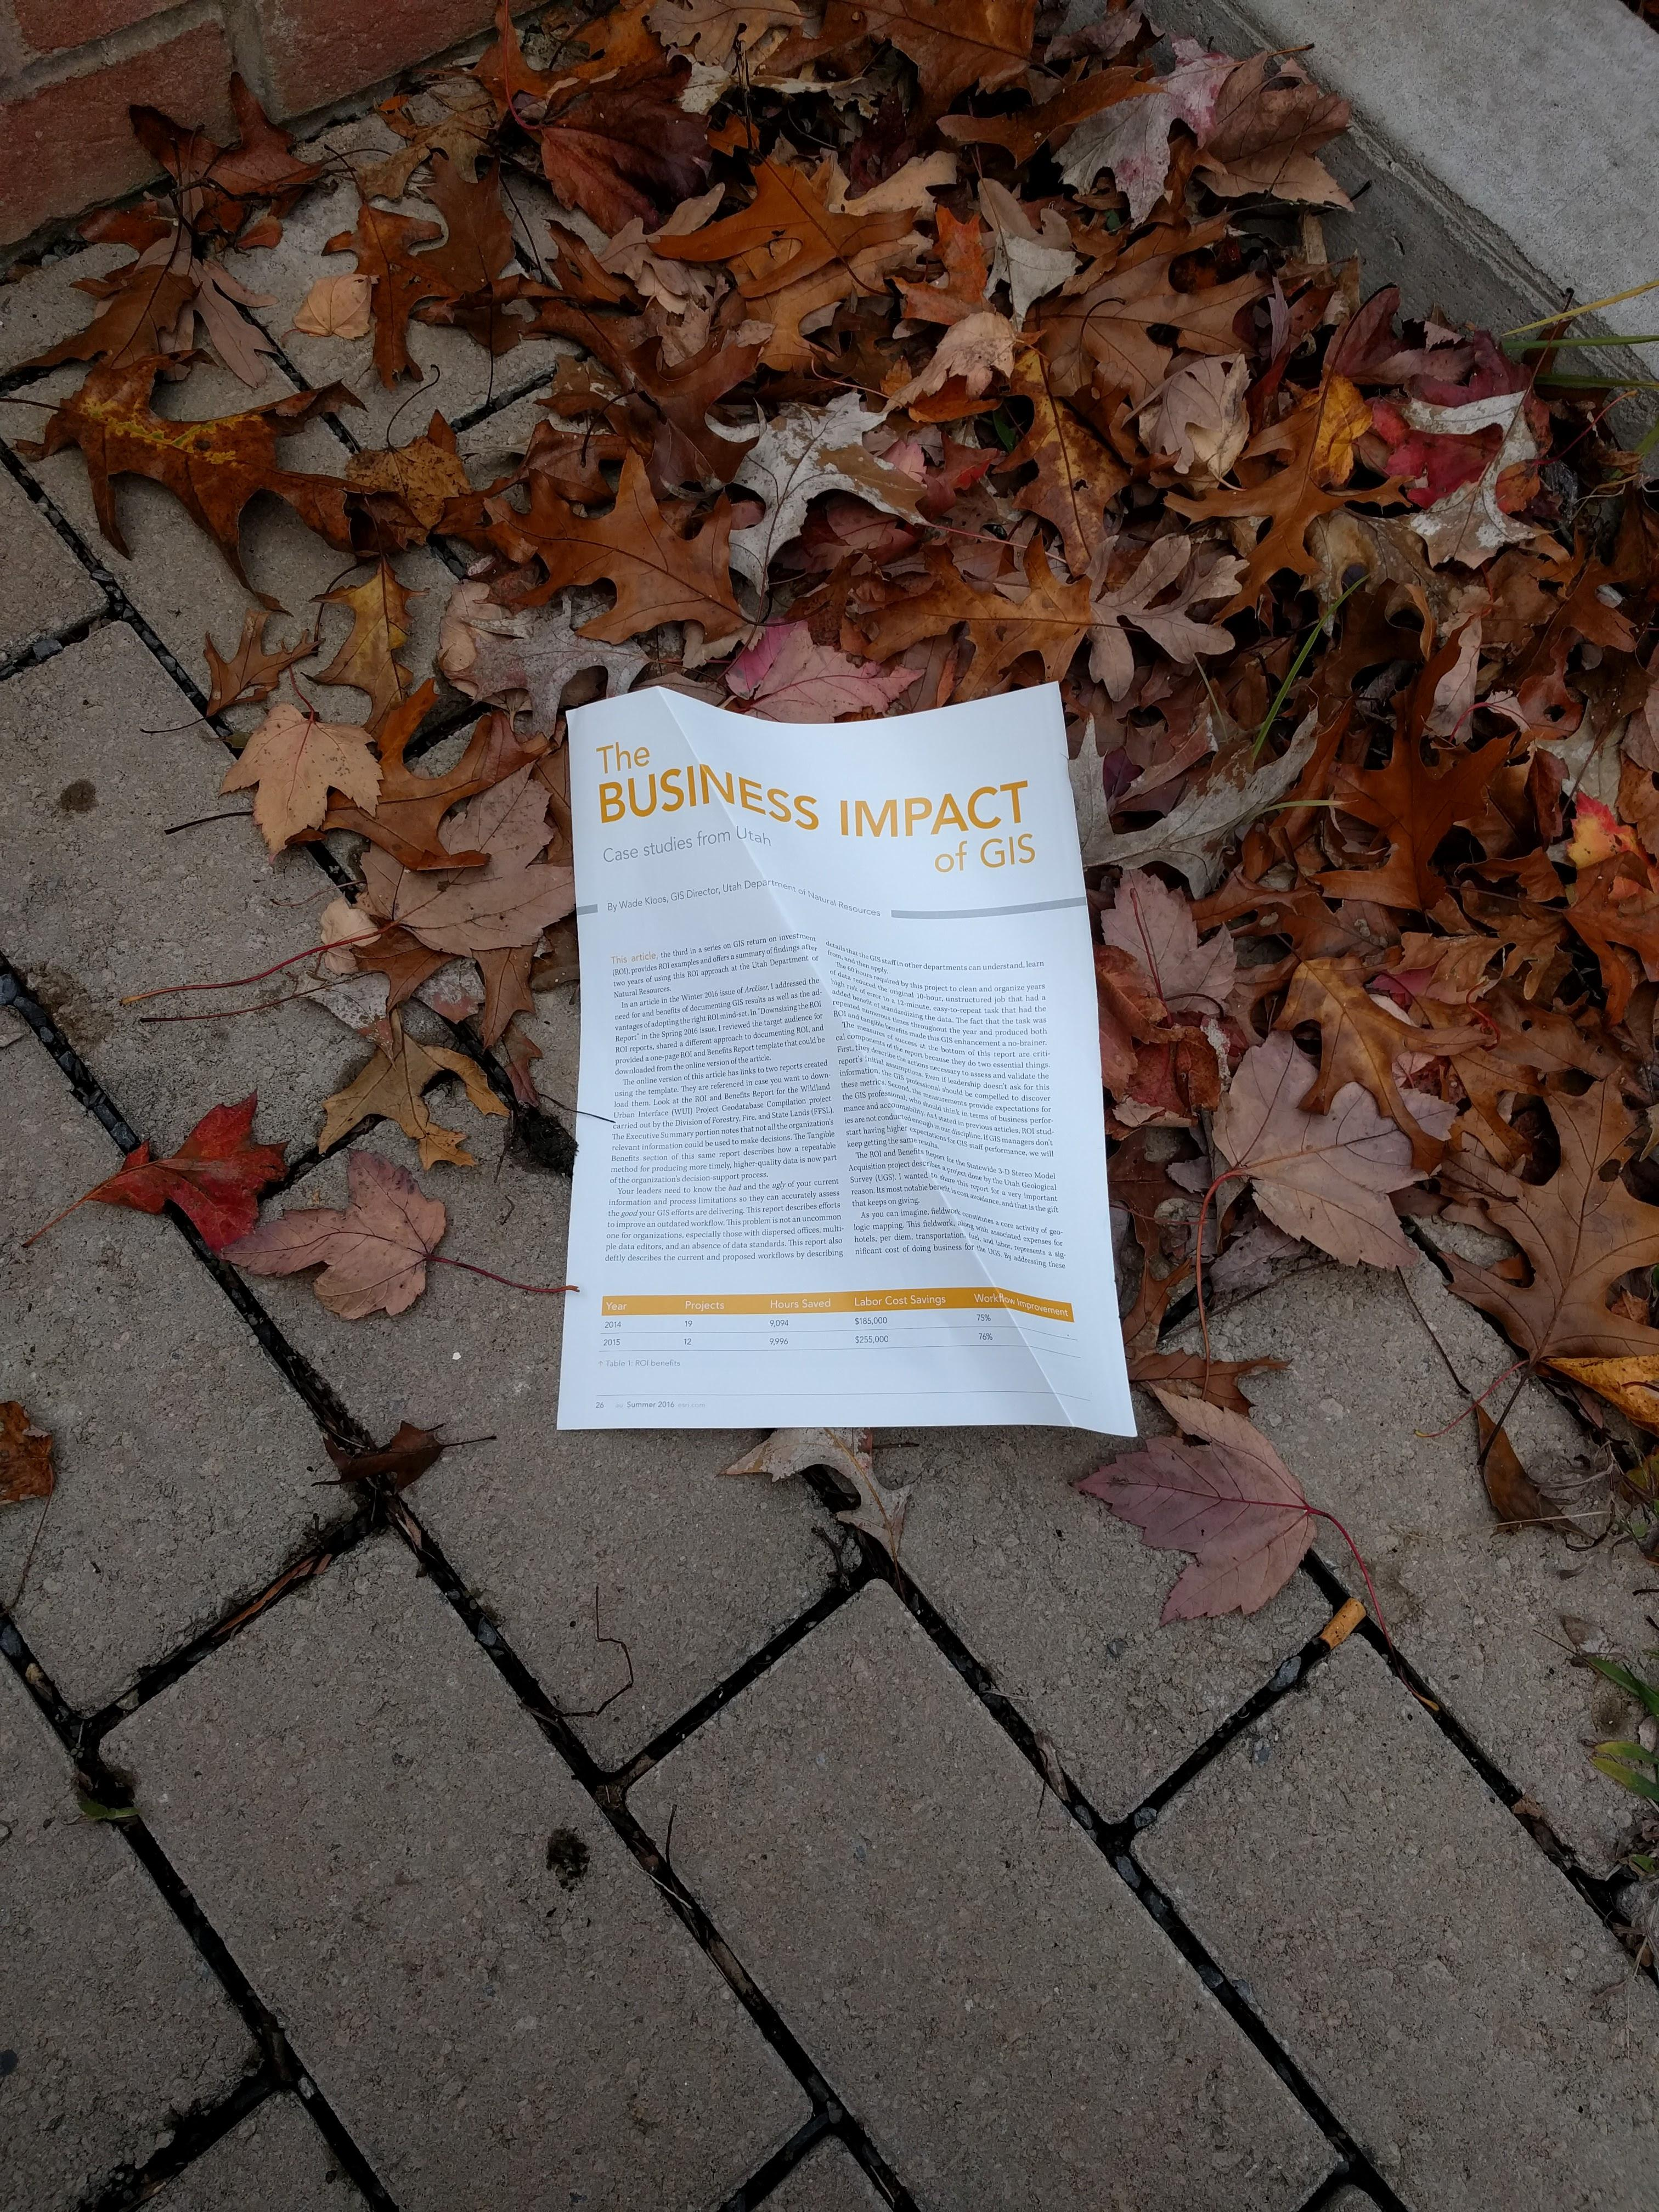paper: (340, 538, 1295, 1575)
